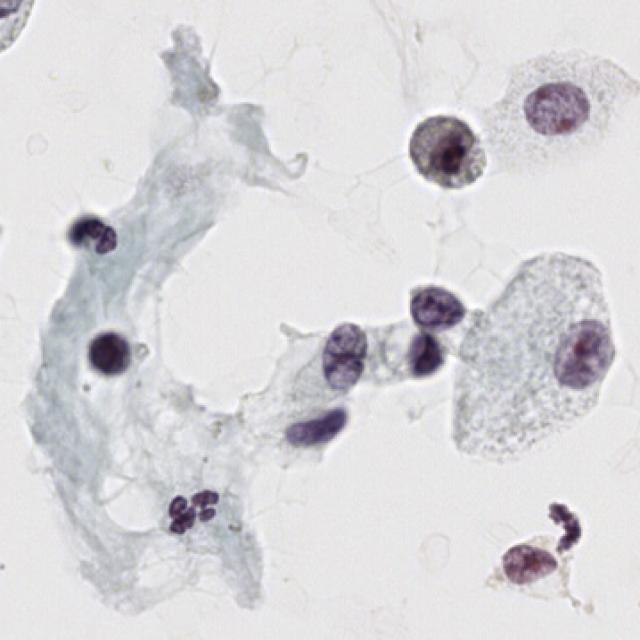cytoplasm: (451, 249, 622, 468)
nucleus: (513, 71, 596, 145), (557, 320, 612, 390)
